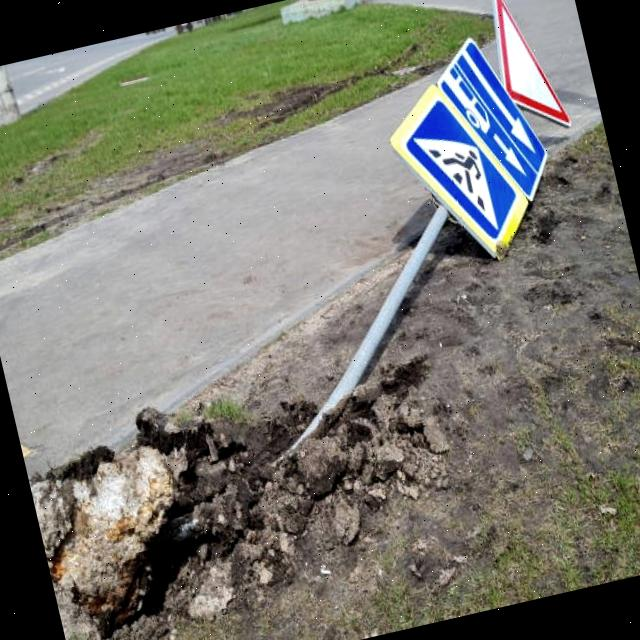Broken Pole: (264, 0, 581, 467)
